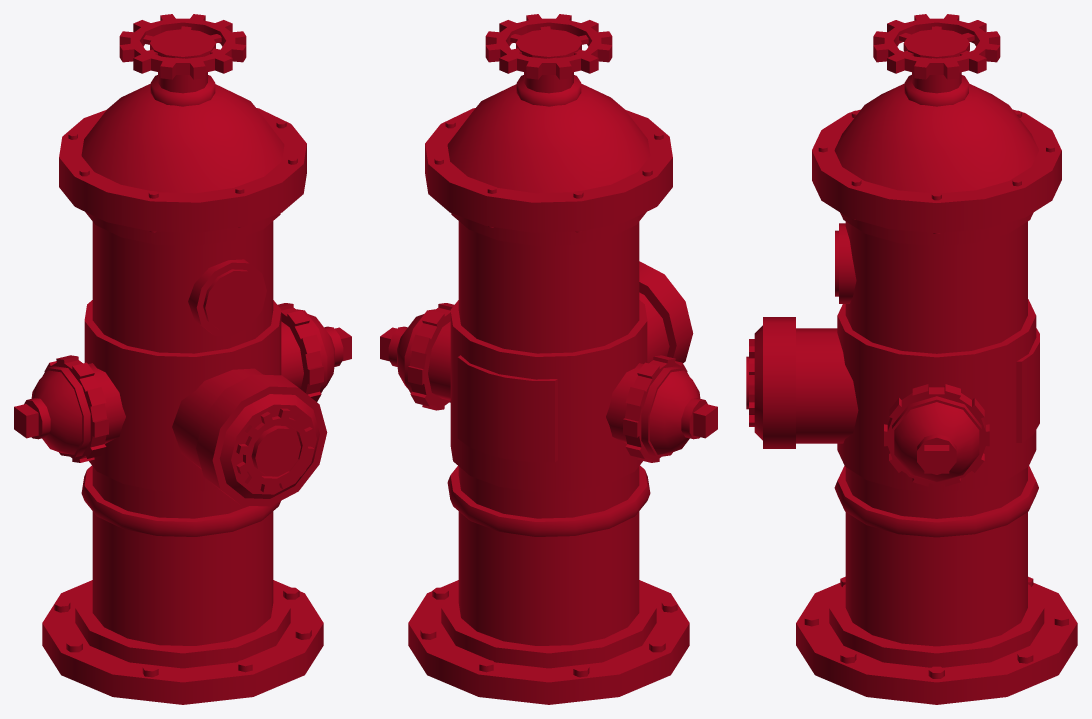
Rendered from SM_town_fireplug.fbx.
3 renders of one model, left to right at view 1: azimuth 30°, elevation 25°; view 2: azimuth 150°, elevation 25°; view 3: azimuth 270°, elevation 25°, orthographic.
Parts seen in each view (by area): view 1: fireplug; view 2: fireplug; view 3: fireplug.
Part boxes in pixels (x1,y1,x2,y2): fireplug: [14, 14, 351, 704]; fireplug: [380, 14, 717, 704]; fireplug: [746, 14, 1077, 704].
Size of the model in its own units: 45.4 by 80.6 by 40.
